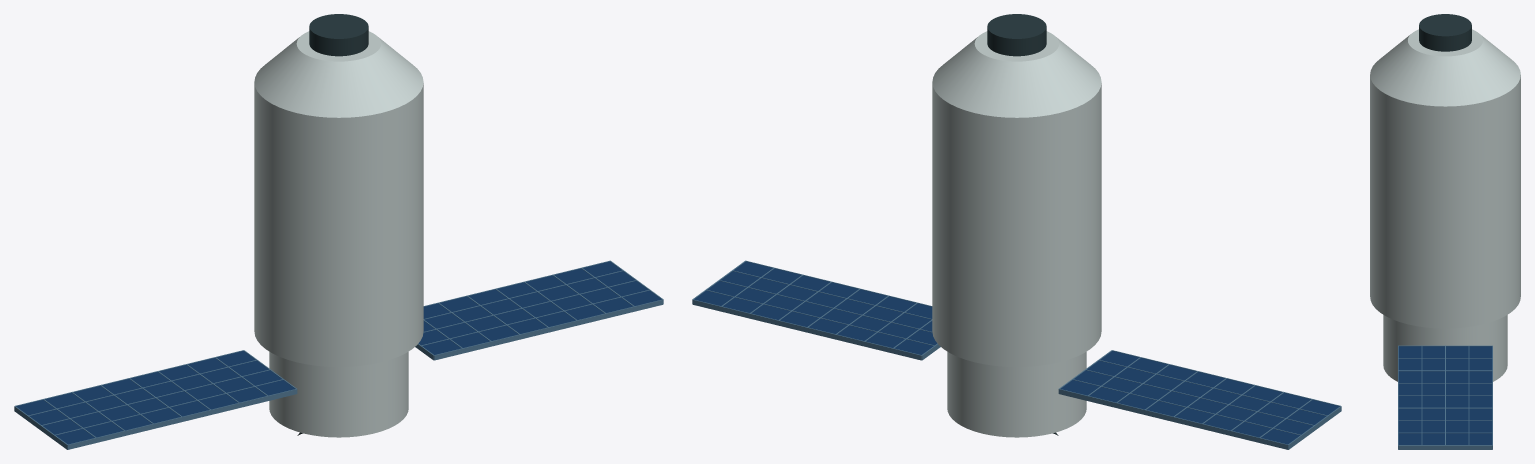
Rendered from tianzhou.glb.
The picture shows the model from 3 angles, left to right: view 1: azimuth 30°, elevation 25°; view 2: azimuth 150°, elevation 25°; view 3: azimuth 270°, elevation 25°; orthographic projection. The views are drawn at different scales.
Parts seen in each view (by area): view 1: body, solar, service, docking; view 2: body, solar, service, docking; view 3: body, solar, service, docking.
Part boxes in pixels (x1,y1,x2,y2): body: (254,31,423,366); solar: (14,260,663,449); service: (269,352,408,437); docking: (309,14,368,56); body: (932,31,1101,366); solar: (692,260,1341,449); service: (947,352,1086,437); docking: (987,14,1046,56); body: (1370,29,1520,328); solar: (1398,345,1492,449); service: (1383,315,1507,381); docking: (1419,14,1471,51).
Bounding box in the file's own units: 6.51 × 4.23 × 1.6.
